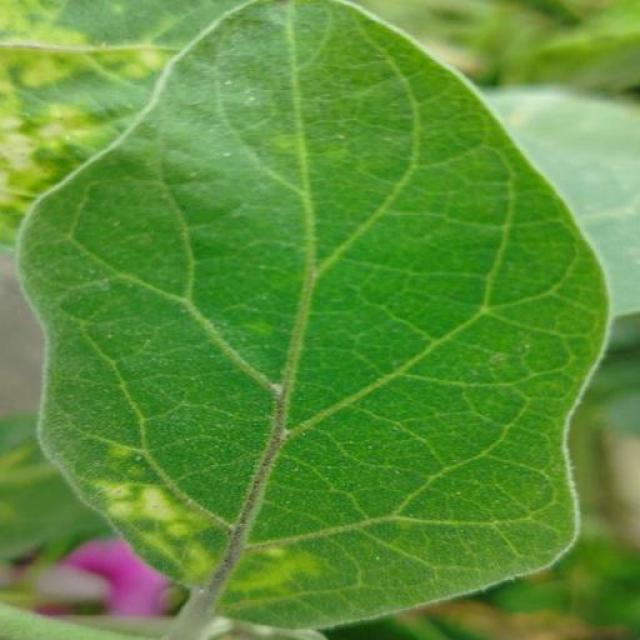leaf_spot: (0, 76, 126, 218), (84, 470, 217, 537), (0, 42, 181, 86), (225, 537, 332, 600), (137, 522, 226, 594), (0, 430, 57, 540), (0, 0, 101, 47), (41, 100, 108, 156), (260, 123, 343, 168), (102, 438, 150, 482), (201, 588, 272, 614), (152, 5, 198, 38), (138, 28, 168, 77), (253, 310, 286, 344), (0, 585, 46, 609), (1, 208, 27, 249), (95, 0, 136, 18)
